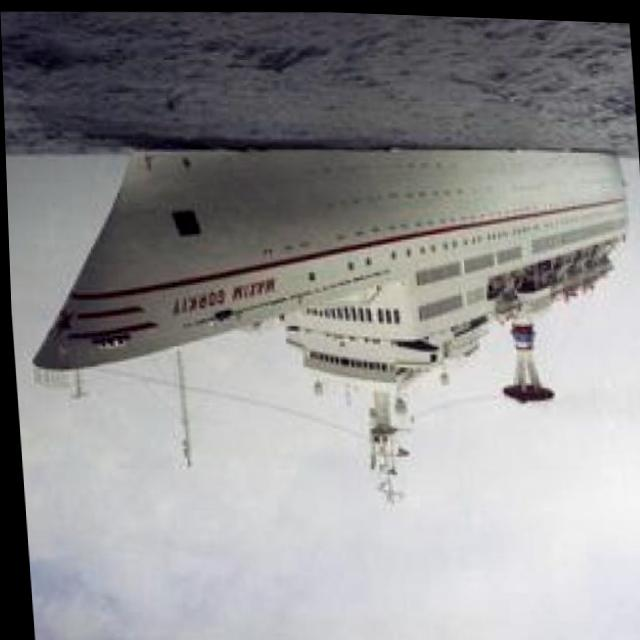ship2: (30, 143, 628, 506)
